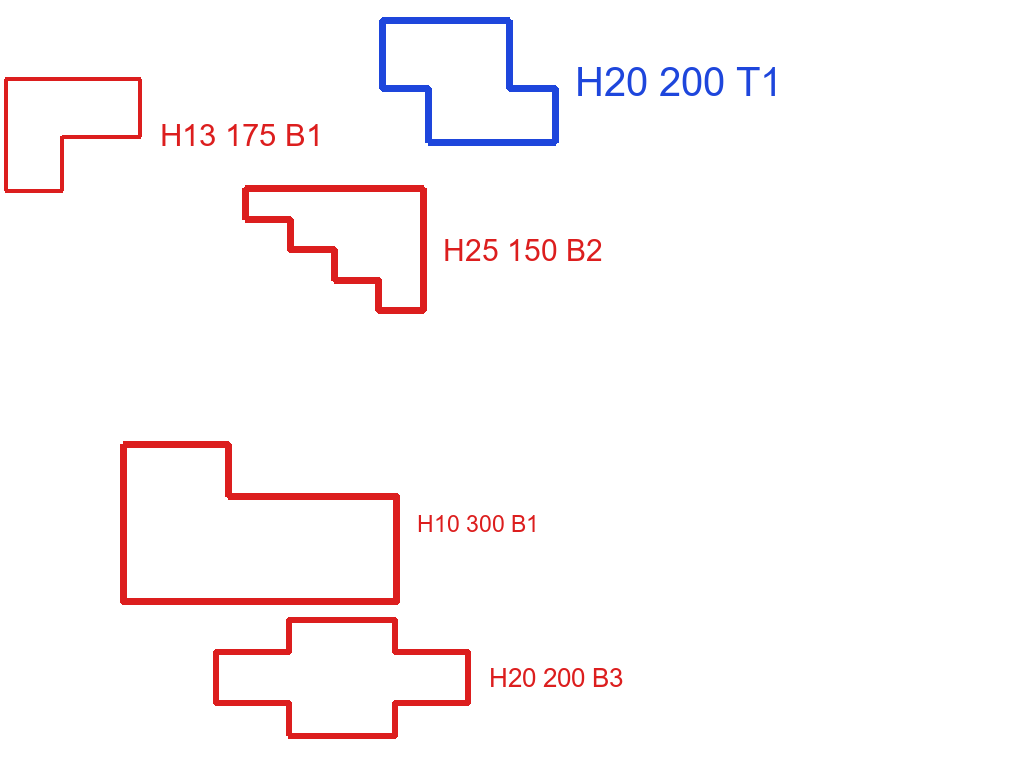shape: (118, 439, 402, 607), (210, 615, 474, 740), (240, 183, 429, 316), (377, 15, 561, 148), (2, 76, 144, 194)
text: (573, 65, 784, 98), (158, 122, 325, 148), (441, 237, 605, 263), (487, 666, 625, 689), (415, 513, 541, 534)
